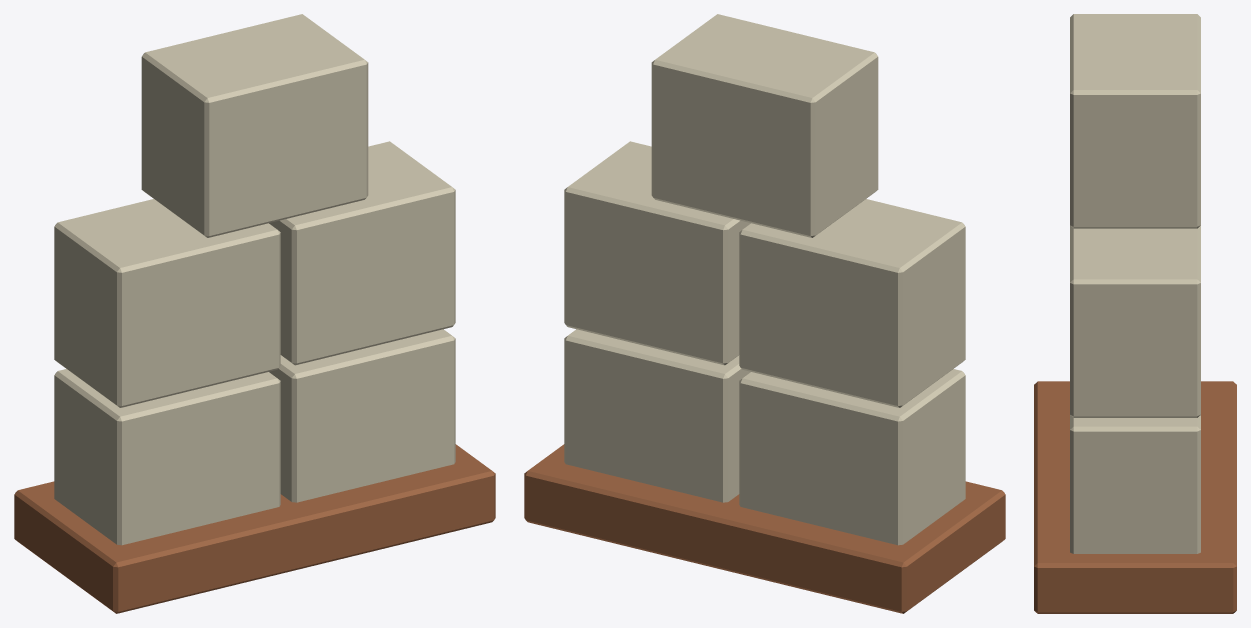
The model's file is foam.glb.
3 views of the same model, side by side, from view 1: azimuth 30°, elevation 25°; view 2: azimuth 150°, elevation 25°; view 3: azimuth 270°, elevation 25° (orthographic).
Visible parts, largest first — view 1: Target4, Target2, Base, Target0, Target3, Target1; view 2: Target4, Target2, Base, Target0, Target3, Target1; view 3: Target4, Target3, Base, Target1.
Part boxes in pixels (<box>): Target4: <box>141,14,368,237</box>; Target2: <box>54,199,280,407</box>; Base: <box>14,444,495,613</box>; Target0: <box>54,369,280,545</box>; Target3: <box>269,141,455,365</box>; Target1: <box>269,329,455,502</box>; Target4: <box>651,14,878,237</box>; Target2: <box>739,199,965,407</box>; Base: <box>524,444,1005,613</box>; Target0: <box>739,369,965,545</box>; Target3: <box>564,141,750,365</box>; Target1: <box>564,329,750,502</box>; Target4: <box>1070,14,1200,228</box>; Target3: <box>1070,225,1200,417</box>; Base: <box>1034,381,1236,613</box>; Target1: <box>1070,415,1200,553</box>.
Bounding box in the file's own units: 1.4 × 1.66 × 0.65.
